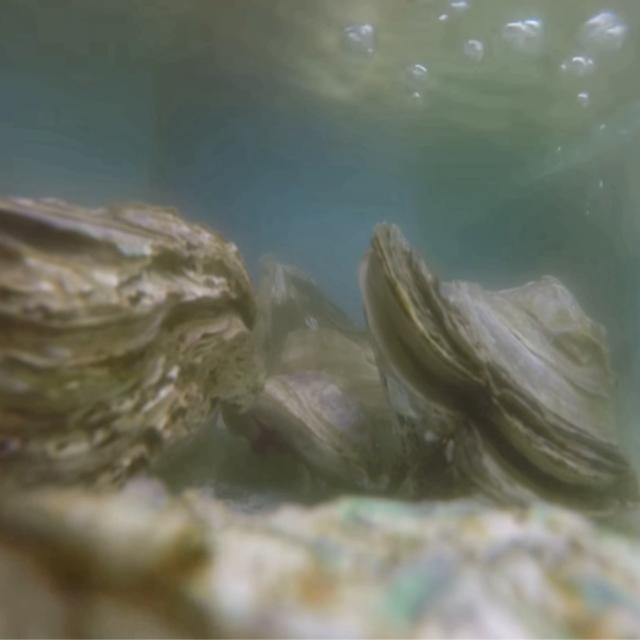Oyster-Closed: (0, 193, 257, 520)
Oyster-Indeterminate: (0, 479, 640, 640), (262, 327, 418, 503)
Oyster-Open: (356, 220, 640, 536)
